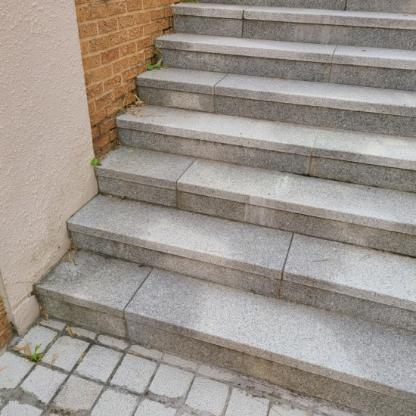stair: (70, 0, 416, 399)
